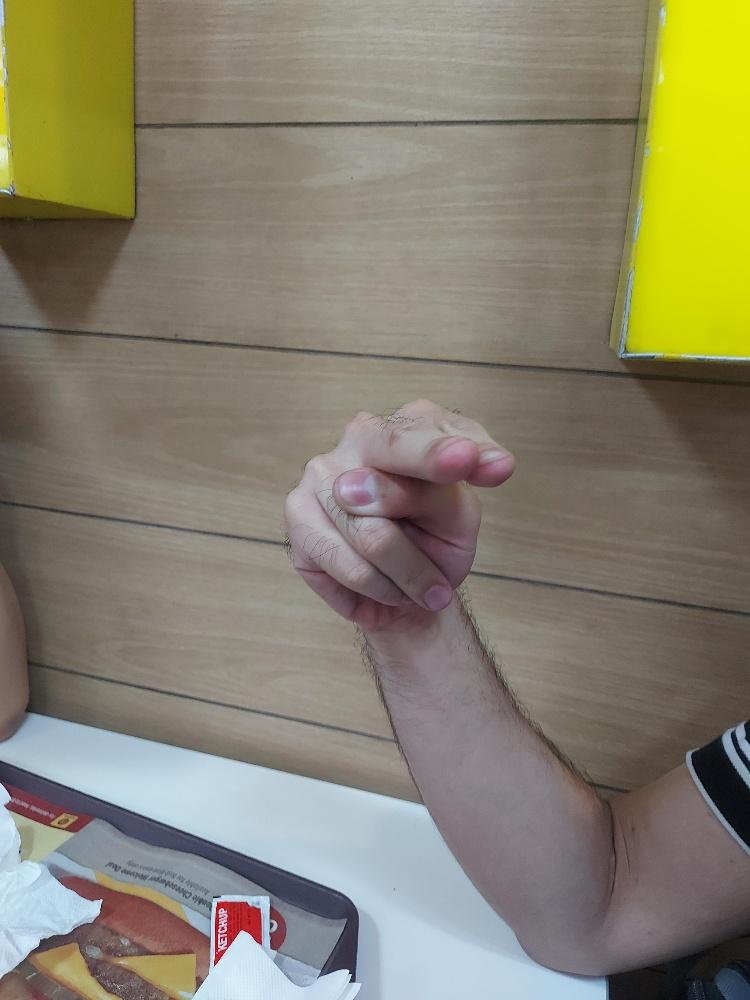n: (280, 394, 520, 630)
